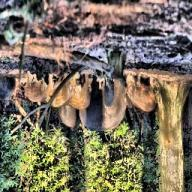boar: (126, 74, 156, 113)
